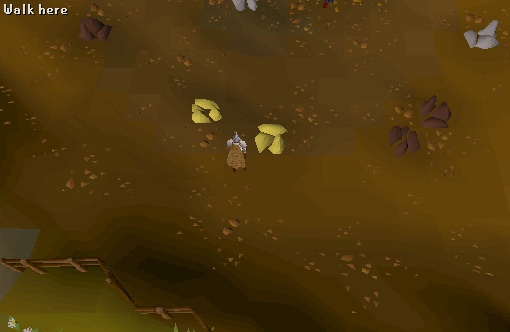gold: (247, 117, 290, 162), (182, 88, 225, 133)
iron: (68, 11, 124, 51), (374, 120, 430, 160), (405, 90, 461, 130)
tin: (454, 14, 508, 58)
